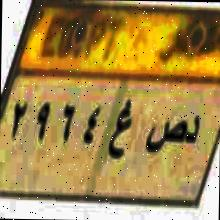2: (6, 92, 30, 142)
4: (80, 103, 104, 152)
6: (58, 90, 78, 154)
9: (34, 92, 53, 144)
daal: (186, 107, 202, 154)
ghayn: (107, 92, 134, 172)
saad: (144, 111, 186, 160)
